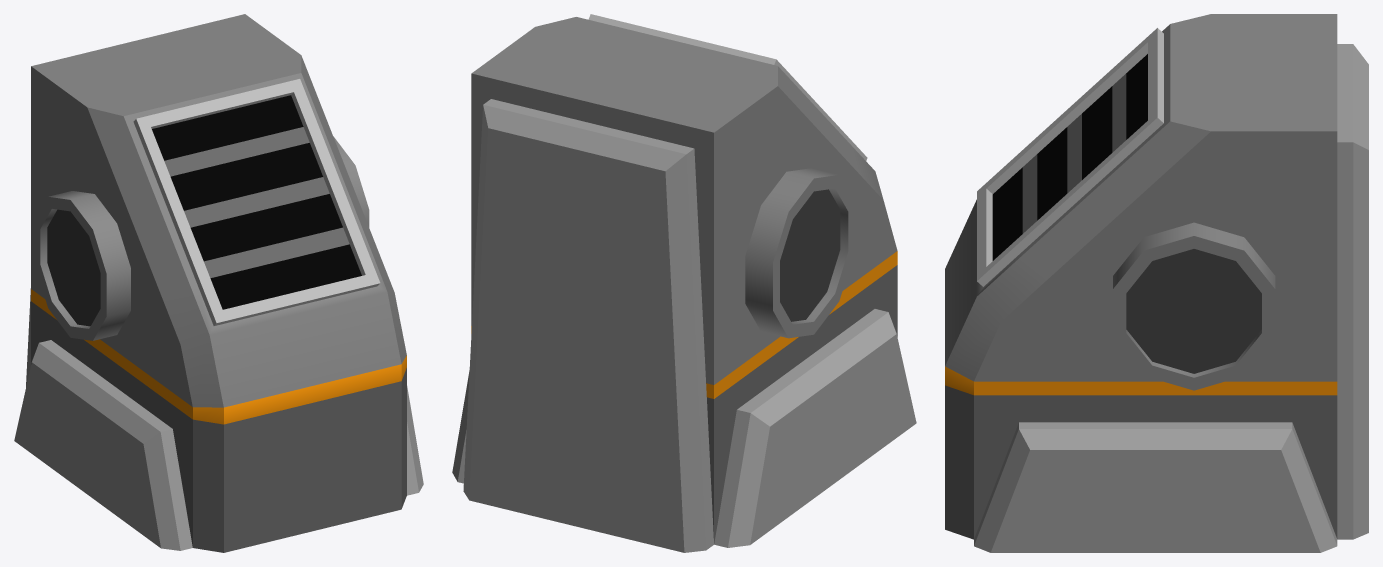
Rendered from SM_Vent_01.fbx.
3 views of the same model, side by side, from view 1: azimuth 30°, elevation 25°; view 2: azimuth 150°, elevation 25°; view 3: azimuth 270°, elevation 25° (orthographic). The views are drawn at different scales.
Parts seen in each view (by area): view 1: SM_Vent_01; view 2: SM_Vent_01; view 3: SM_Vent_01.
Boxes of the visible parts, bbox=[...] form: SM_Vent_01: bbox=[14, 14, 423, 552]; SM_Vent_01: bbox=[452, 14, 916, 552]; SM_Vent_01: bbox=[945, 14, 1368, 552].
Size of the model in its own units: 60.52 by 80 by 75.28.
Materials: 1 (1 with a texture image).
